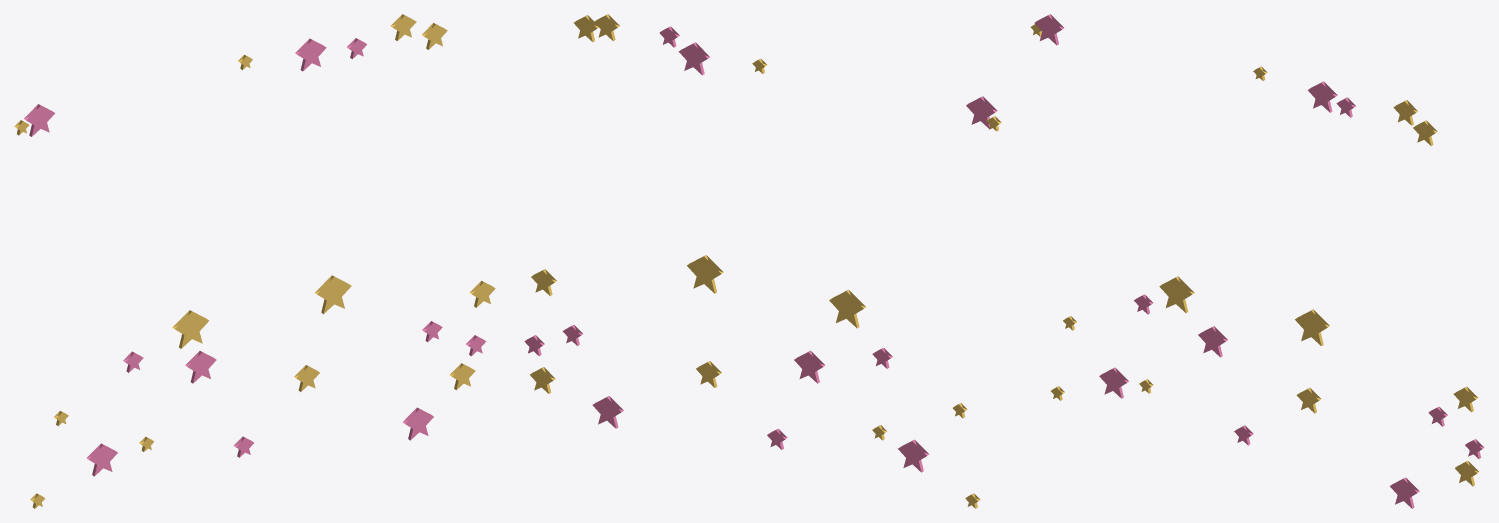
File: happy-spark.glb
3 views of the same model, side by side, from view 1: azimuth 30°, elevation 25°; view 2: azimuth 150°, elevation 25°; view 3: azimuth 330°, elevation 25° (orthographic). The views are drawn at different scales.
Visible parts, largest first — view 1: falling star (×5), cheek spark (×2); view 2: falling star (×5), cheek spark (×2); view 3: cheek spark (×2), falling star (×2).
Boxes of the visible parts, box(x1,y1,x2,y2) form: falling star (×5): box(24, 38, 433, 476); cheek spark (×2): box(172, 275, 351, 348); falling star (×5): box(592, 42, 997, 472); cheek spark (×2): box(687, 255, 865, 328); cheek spark (×2): box(1159, 276, 1329, 346); falling star (×2): box(1099, 326, 1227, 398).
Bounding box in the file's own units: 4.13 × 3.52 × 0.285.
